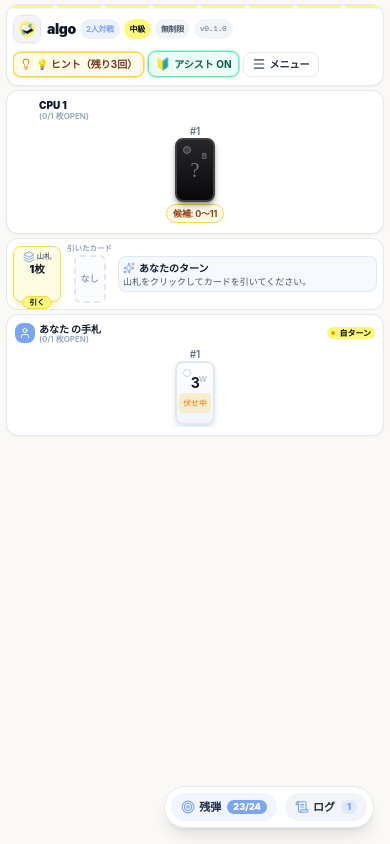
Test: GameBoard Component & Timer Pause/Resume Logic (Issue #13) › 【Issue #120】スマートフォン画面における残弾デッキトラッカーおよび対戦ログのアクセス性向上 › モバイル表示用FAB（mobile-quick-fab）が描画され、ワンタップで残弾ドロワー・ログドロワーが開くこと
The width and height of the screenshot is (390, 844).
Expected: the element with test id "mobile-quick-fab" is shown, [164,786,374,828]
# FAB内の残弾ボタンをクリックすると残弾ドロワーが開く
Click the button with test id "btn-open-deck-tracker-mobile". click: [224, 807]
box: [171,792,277,821]
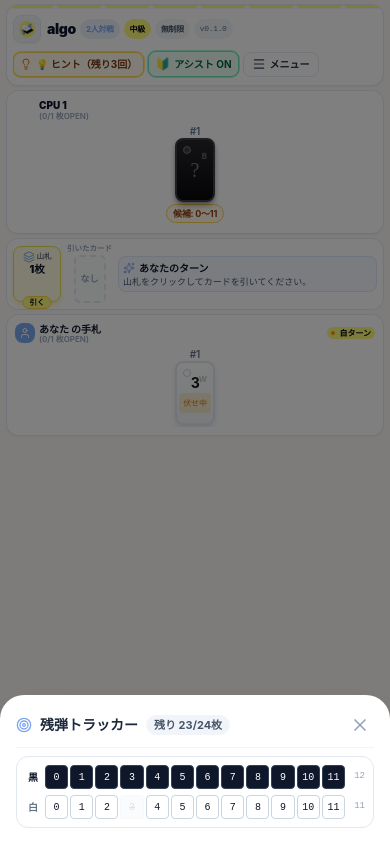
Now the dialog with test id "mobile-tracker-drawer" is shown
Click the button with test id "btn-close-deck-tracker-mobile". click: [360, 725]
box: [346,711,374,739]
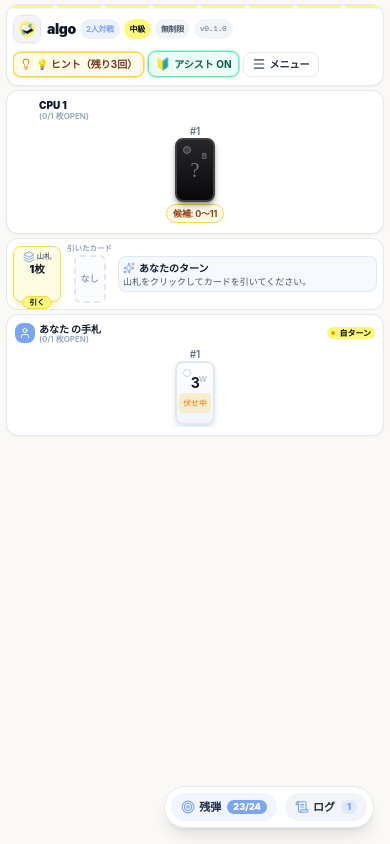
Now the dialog with test id "mobile-tracker-drawer" is gone
# FAB内のログボタンをクリックするとログドロワーが開く
Click the button with test id "btn-toggle-log". click: [326, 807]
box: [285,792,367,821]
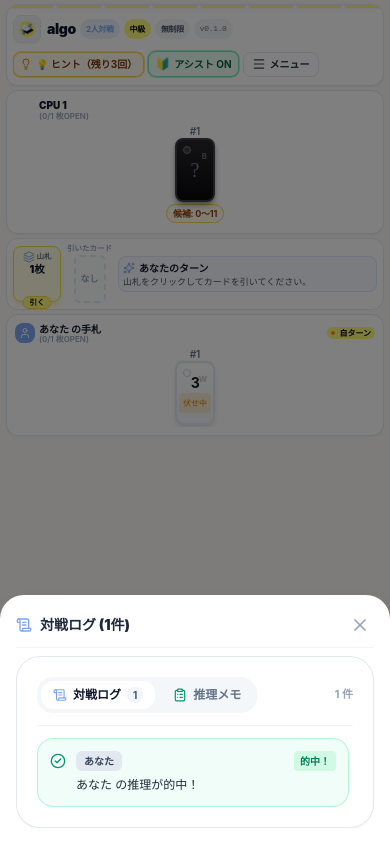
Now the dialog with test id "mobile-log-drawer" is shown
Click the button with test id "btn-close-mobile-log". click: [360, 624]
box: [346,610,374,638]
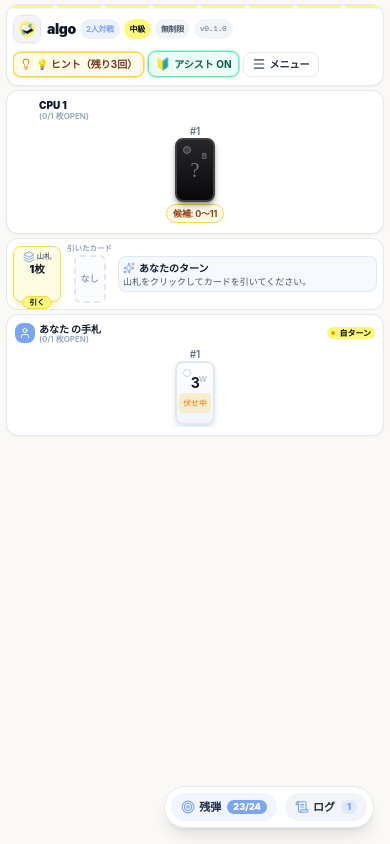
Now the dialog with test id "mobile-log-drawer" is gone
